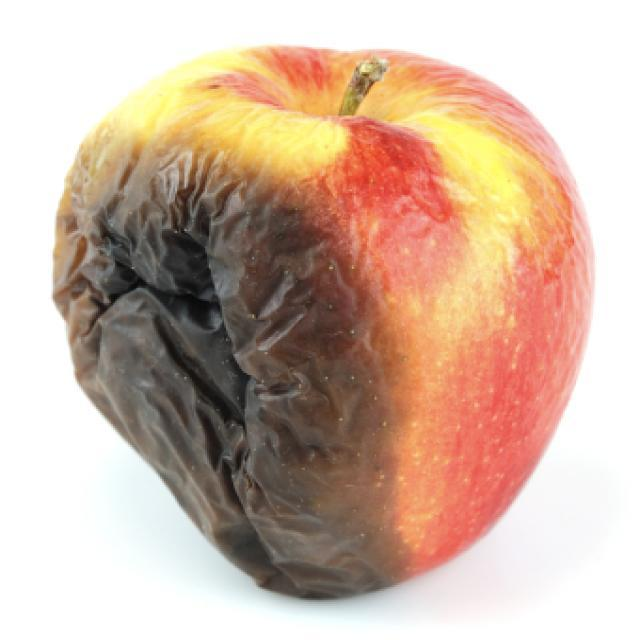Rotten: (45, 40, 595, 597)
